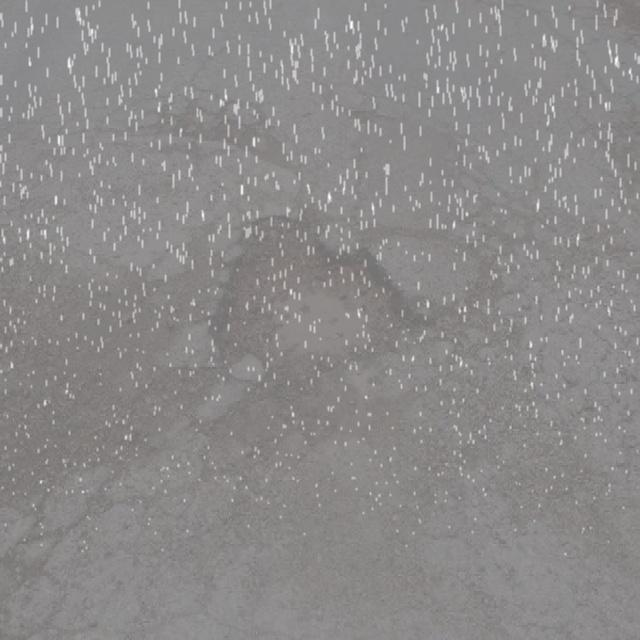Pothole: (176, 205, 442, 420)
